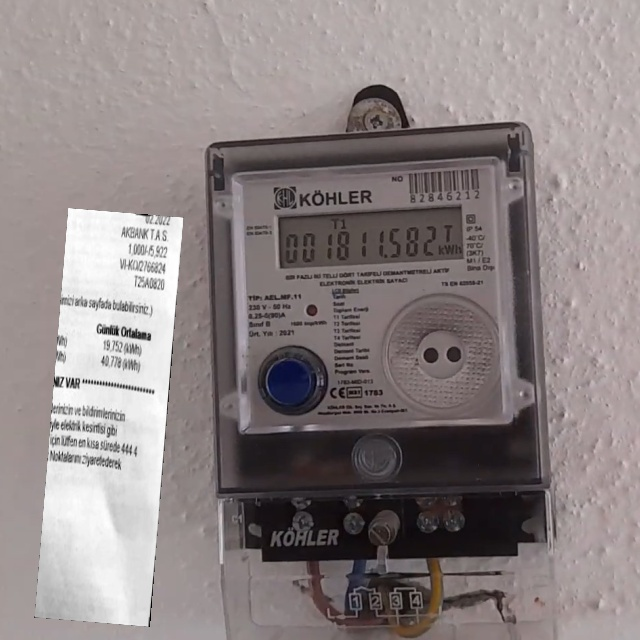electricity-bill: (33, 208, 183, 627)
